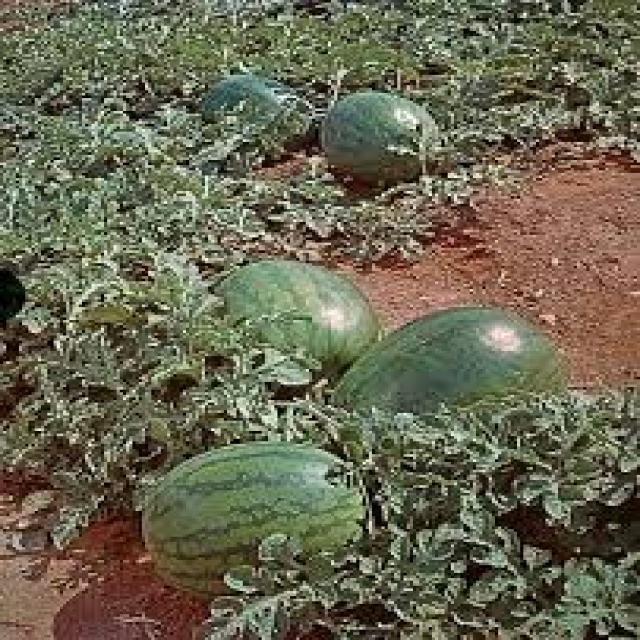watermelon: (328, 304, 571, 457), (138, 439, 366, 596), (212, 258, 378, 377), (318, 88, 438, 186), (199, 72, 312, 155)
